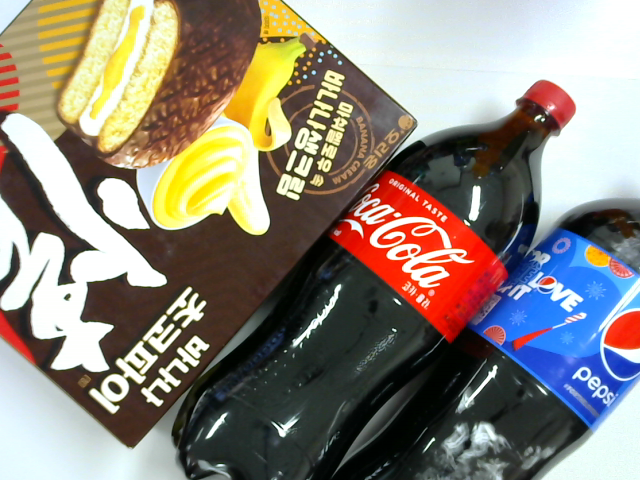Choco_Pie_Banana: (5, 1, 367, 380)
Coca_Cola_1.5L: (189, 52, 546, 457)
Pepsi_Cola_1.5L: (337, 195, 633, 480)
